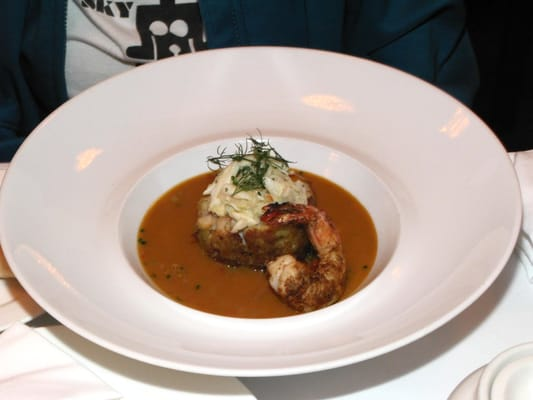pizza: (125, 0, 483, 111)
